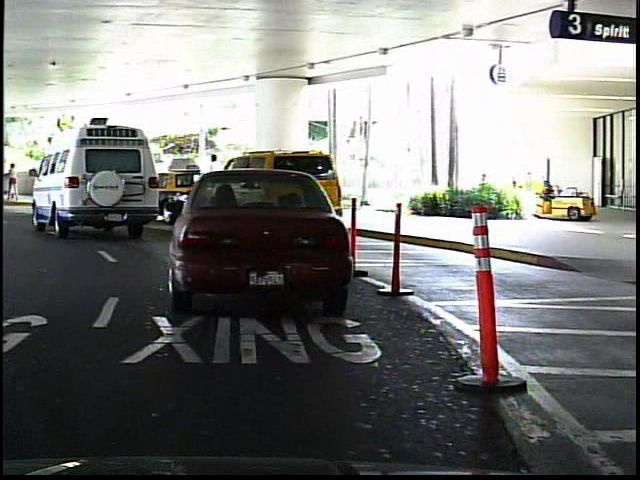person: (204, 150, 228, 209), (5, 160, 22, 202), (37, 156, 53, 200)
